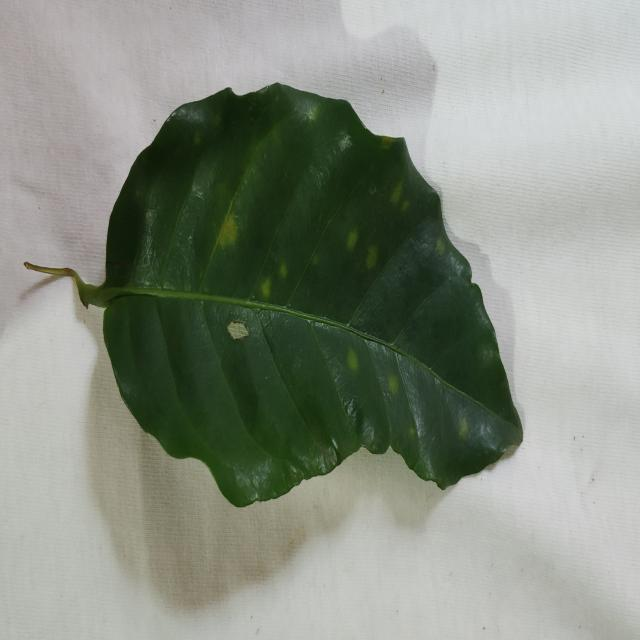Enfermedad-Roya: (31, 85, 525, 511)
